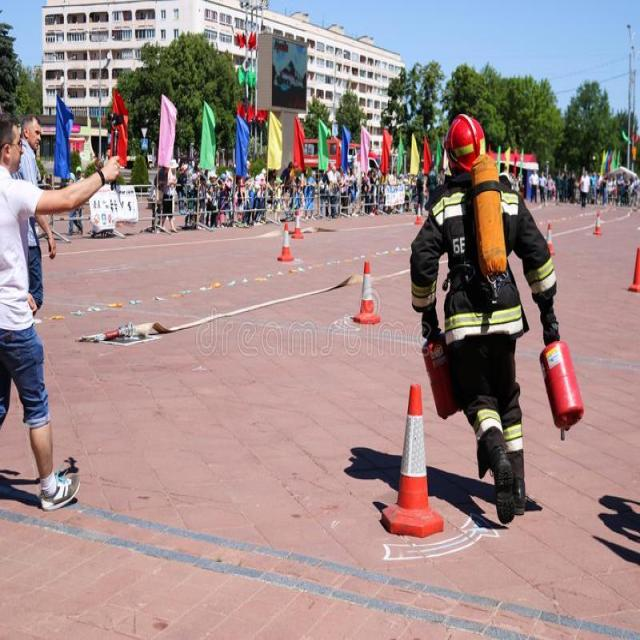fire_extinguisher: (534, 332, 587, 439), (417, 326, 474, 420)
